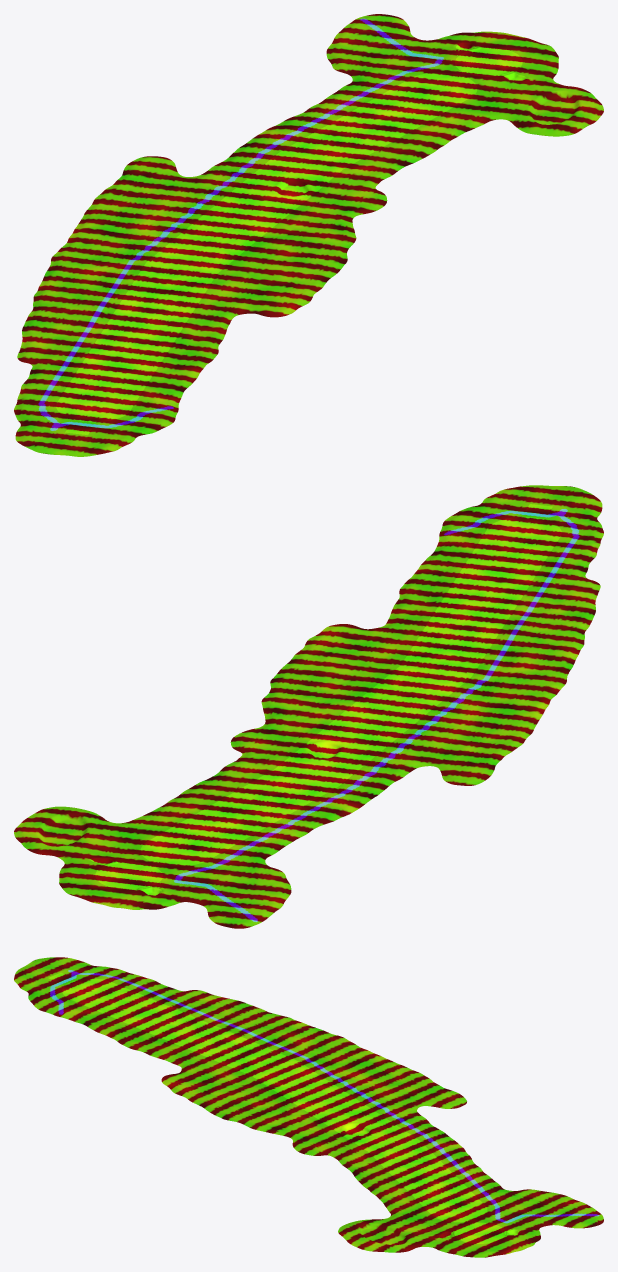
File: SM_H11_IslandTop.fbx
The picture shows the model from 3 angles, top to bottom: view 1: azimuth 30°, elevation 25°; view 2: azimuth 210°, elevation 25°; view 3: azimuth 270°, elevation 25°; orthographic projection. The views are drawn at different scales.
Parts seen in each view (by area): view 1: SM_H11_IslandTop; view 2: SM_H11_IslandTop; view 3: SM_H11_IslandTop.
Boxes of the visible parts, x1,y1,x2,y2 form: SM_H11_IslandTop: [14, 14, 603, 456]; SM_H11_IslandTop: [14, 485, 603, 928]; SM_H11_IslandTop: [14, 957, 603, 1257].
Size of the model in its own units: 467 by 2.71 by 386.
